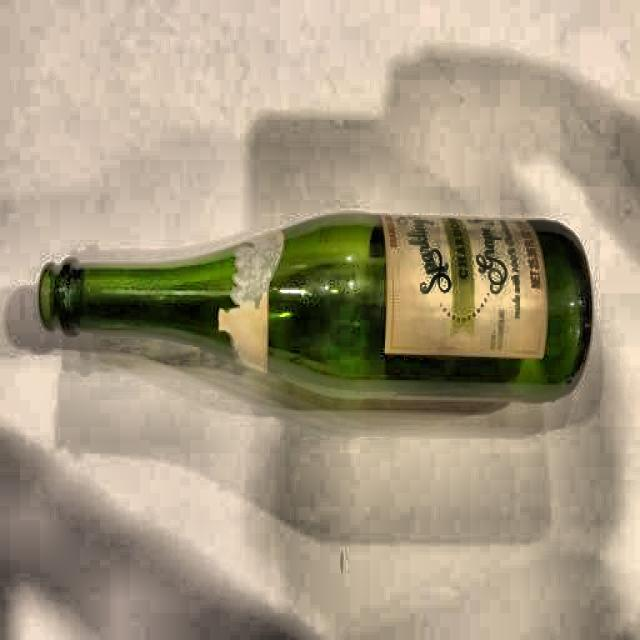glass: (39, 212, 596, 411)
